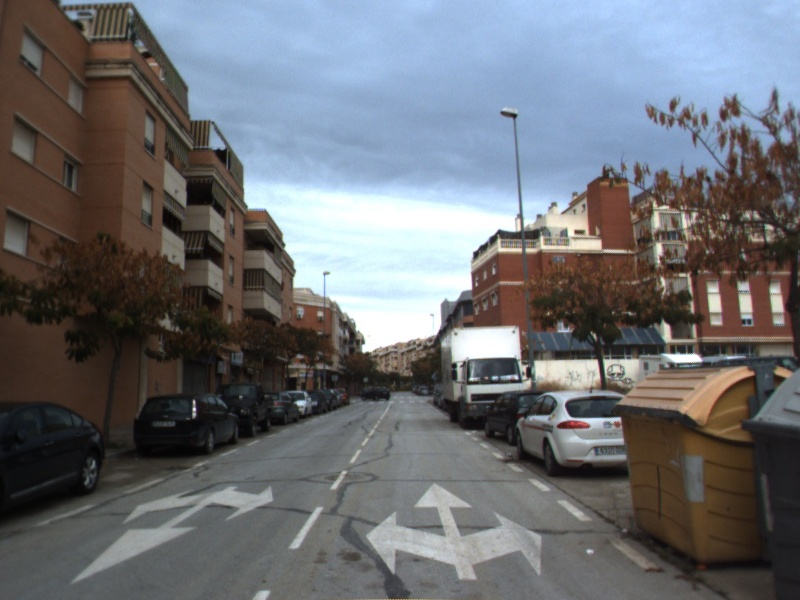STRAIGHT_LEFT_RIGHT: (364, 480, 544, 581)
